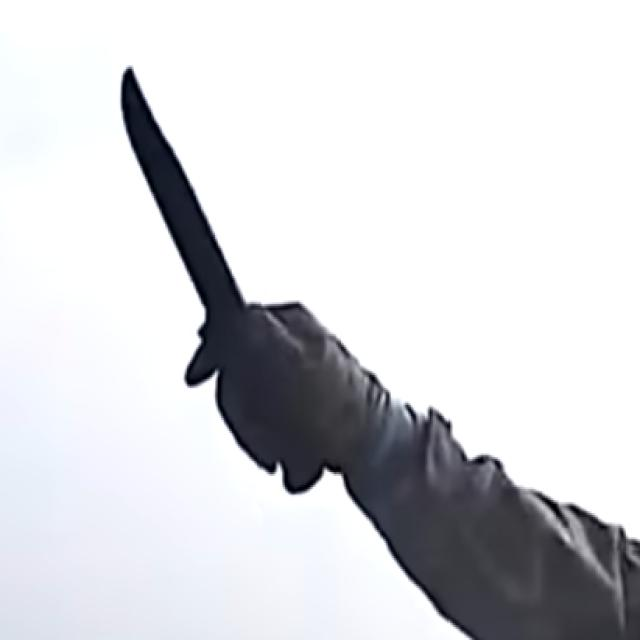knife: (108, 59, 333, 519)
